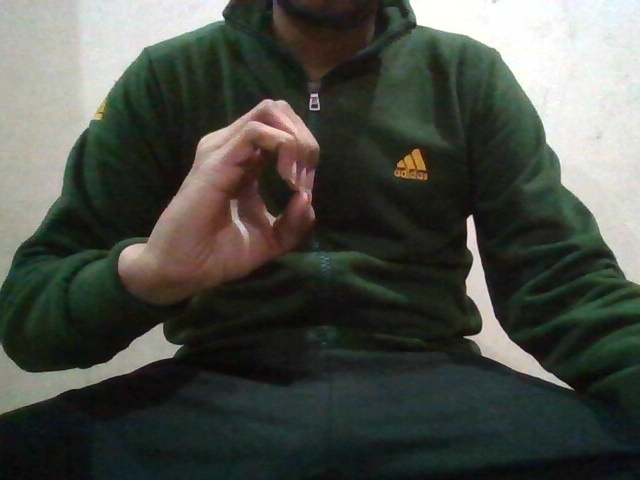O: (172, 97, 320, 267)
